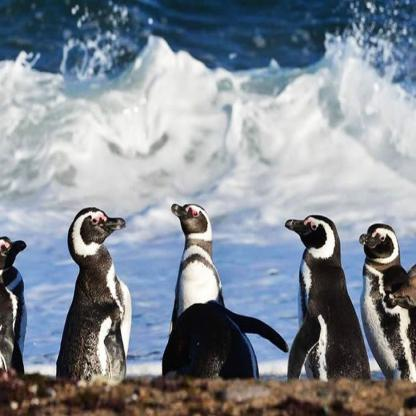Penguin: (276, 208, 375, 389), (49, 198, 140, 393), (153, 190, 237, 382), (159, 286, 292, 396), (350, 212, 416, 386), (0, 220, 34, 392)
